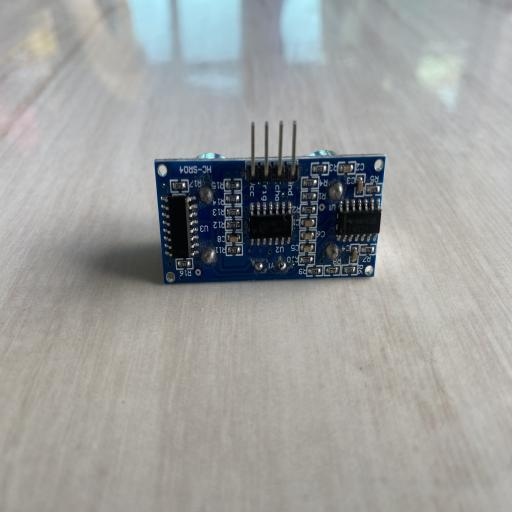Ultrasonic Sensor: (154, 118, 386, 284)
